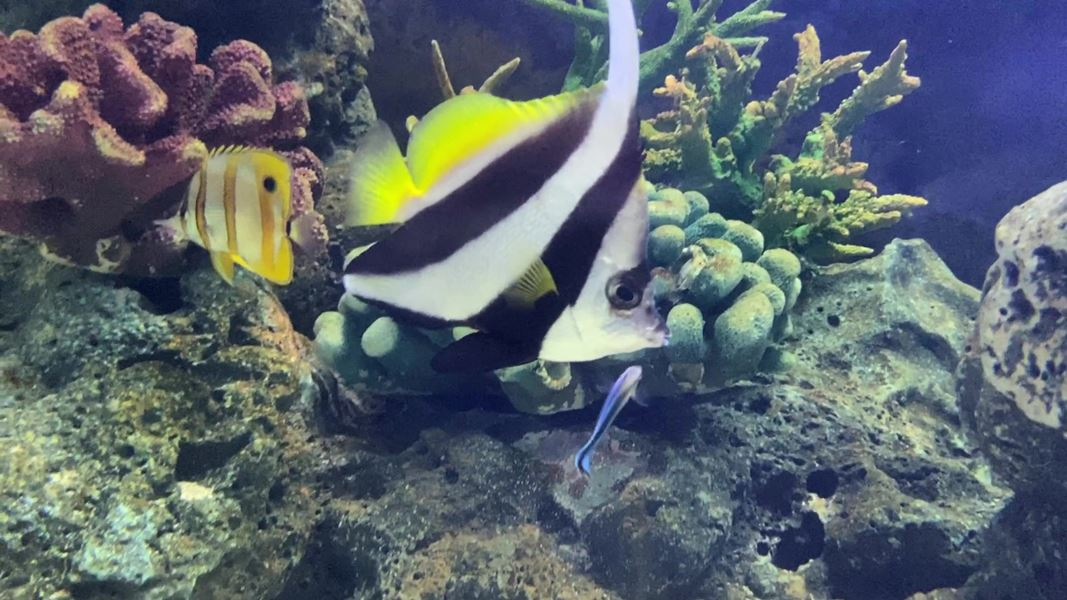Bluesteak cleaner wrasse: (568, 356, 649, 496)
